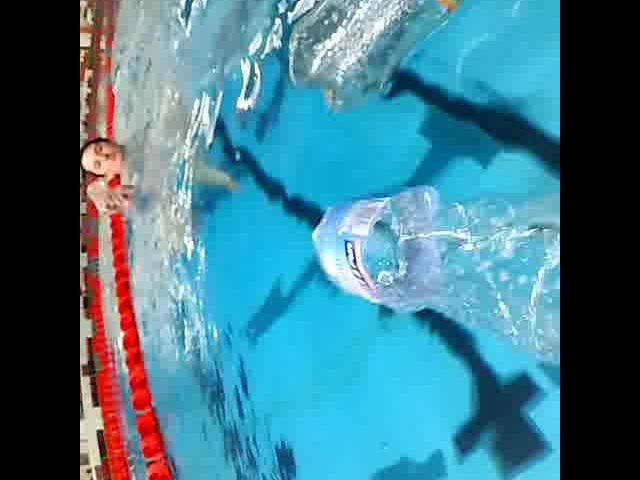Bottle: (305, 181, 560, 366), (284, 0, 539, 118)
